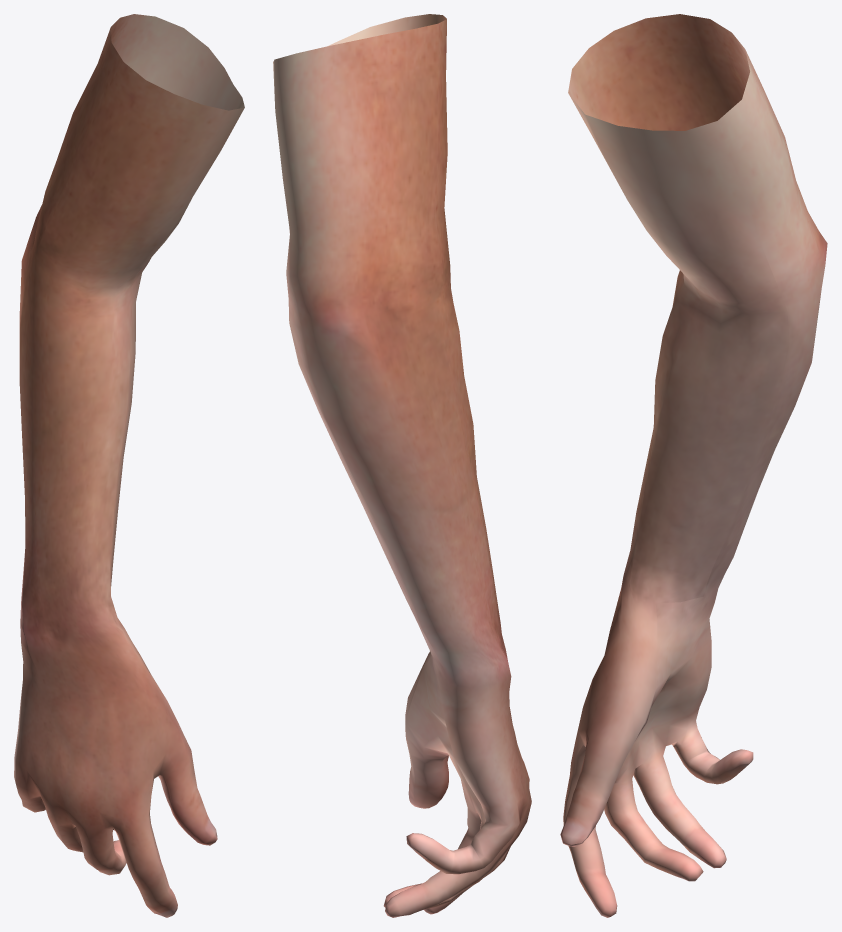
The model's file is BrazoIzq.obj.
3 renders of one model, left to right at view 1: azimuth 30°, elevation 25°; view 2: azimuth 150°, elevation 25°; view 3: azimuth 270°, elevation 25°, orthographic. The views are drawn at different scales.
Parts seen in each view (by area): view 1: Object_12.001; view 2: Object_12.001; view 3: Object_12.001.
Part boxes in pixels (left/top/right/bottom): Object_12.001: left=14, top=14, right=244, bottom=917; Object_12.001: left=273, top=14, right=531, bottom=917; Object_12.001: left=560, top=14, right=827, bottom=917.
Size of the model in its own units: 0.2818 by 1.09 by 0.2948.
Materials: 1 (1 with a texture image).
